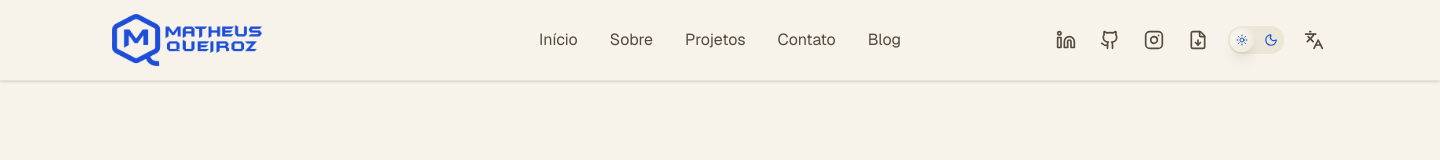
Test: Header › switches language labels in the header
The width and height of the screenshot is (1440, 160).
Click the button named "Mudar para inglês".
click(1314, 40)  # box [1300,26,1328,54]
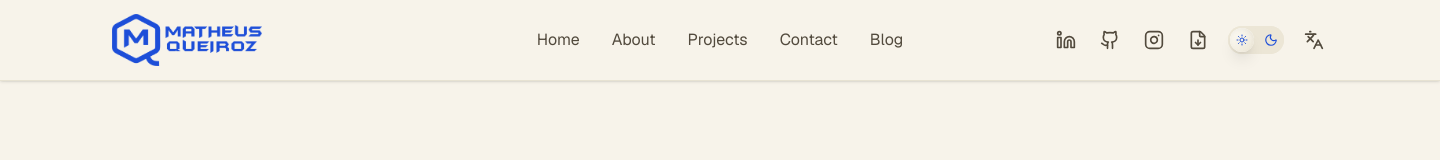
Result: the navigation bar named "Main navigation" is shown at [537,27,903,53]
